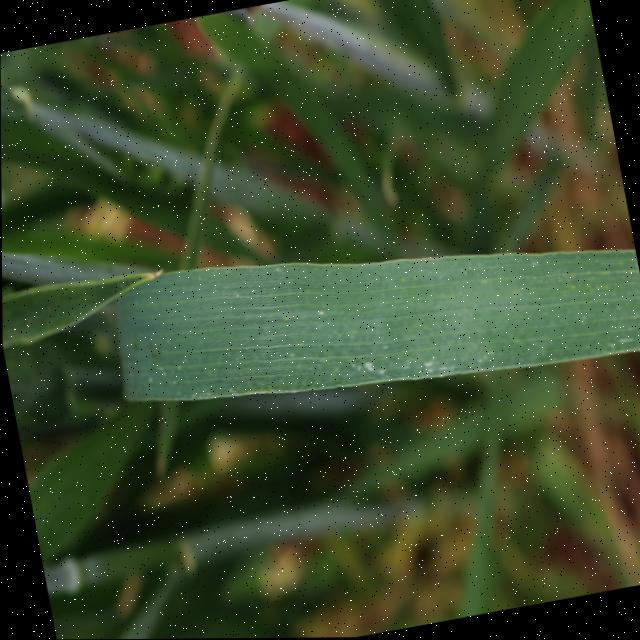healthy_wheat: (89, 174, 640, 474), (0, 4, 301, 322), (35, 450, 499, 640), (264, 0, 483, 220), (1, 256, 143, 563), (456, 0, 621, 201)
